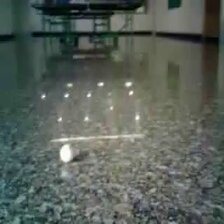w: (59, 143, 74, 162)
